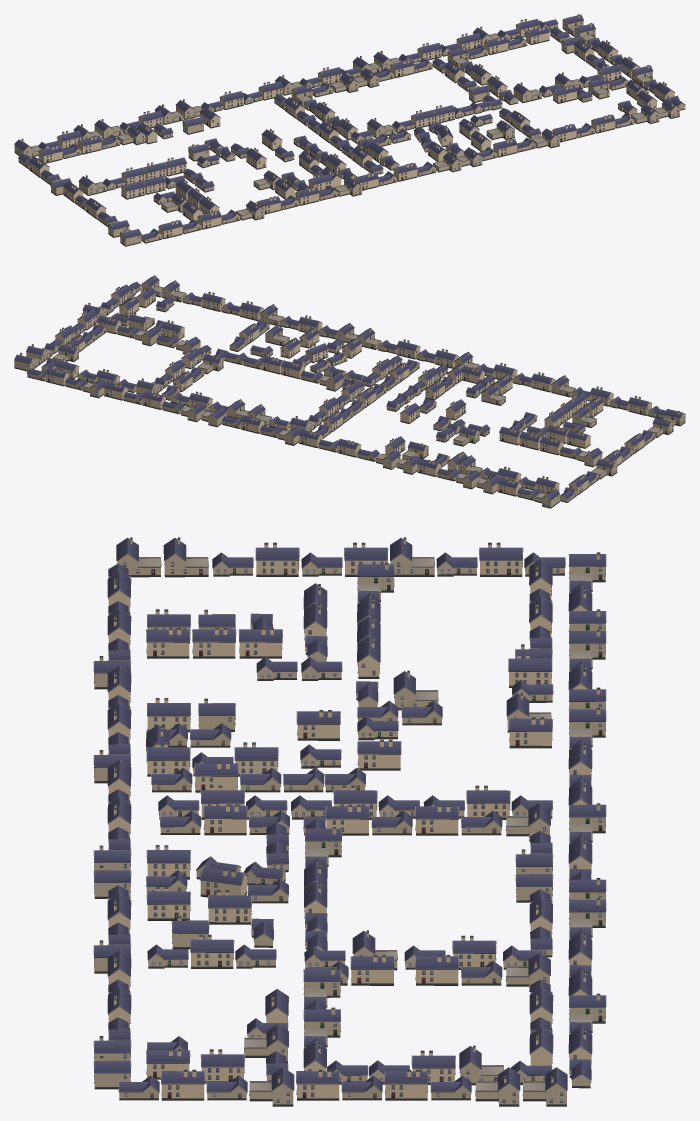
File: all-home-optimized.glb
3 renders of one model, top to bottom at view 1: azimuth 30°, elevation 25°; view 2: azimuth 150°, elevation 25°; view 3: azimuth 270°, elevation 25°, orthographic. The views are drawn at different scales.
Parts seen in each view (by area): view 1: Object_2.186, Object_2.165, Object_2.112, Object_2.225, Object_2.107, Object_2.205, Object_2.254, Object_2.121, Object_2.244, Object_2.102, Object_2.144, Object_2.117 (+3 smaller); view 2: Object_2.206, Object_2.213, Object_2.113; view 3: Object_2.083, Object_2.208, Object_2.238, Object_2.086, Object_2.237, Object_2.043, Object_2.077, Object_2.187, Object_2.195, Object_2.196, Object_2.551, Object_2.153 (+62 smaller).
Boxes of the visible parts, x1,y1,x2,y2 form: Object_2.186: [486, 120, 514, 139]; Object_2.165: [588, 77, 609, 99]; Object_2.112: [433, 152, 461, 172]; Object_2.225: [117, 125, 145, 145]; Object_2.107: [631, 104, 659, 123]; Object_2.205: [121, 180, 145, 199]; Object_2.254: [330, 73, 358, 92]; Object_2.121: [236, 200, 264, 220]; Object_2.244: [513, 82, 541, 103]; Object_2.102: [531, 128, 560, 148]; Object_2.144: [78, 175, 107, 195]; Object_2.117: [333, 176, 362, 196]; Object_2.206: [453, 426, 479, 446]; Object_2.213: [481, 384, 505, 405]; Object_2.113: [396, 339, 420, 359]; Object_2.083: [255, 542, 299, 576]; Object_2.208: [509, 717, 552, 748]; Object_2.238: [208, 890, 251, 924]; Object_2.086: [479, 542, 523, 576]; Object_2.237: [146, 886, 190, 920]; Object_2.043: [190, 934, 234, 968]; Object_2.077: [161, 1069, 205, 1100]; Object_2.187: [203, 804, 247, 835]; Object_2.195: [146, 627, 190, 658]; Object_2.196: [192, 627, 236, 658]; Object_2.551: [384, 1069, 428, 1100]; Object_2.153: [415, 804, 459, 835].
Bounding box in the file's own units: 202 × 4.86 × 80.14.
Materials: 390 (196 with a texture image).
